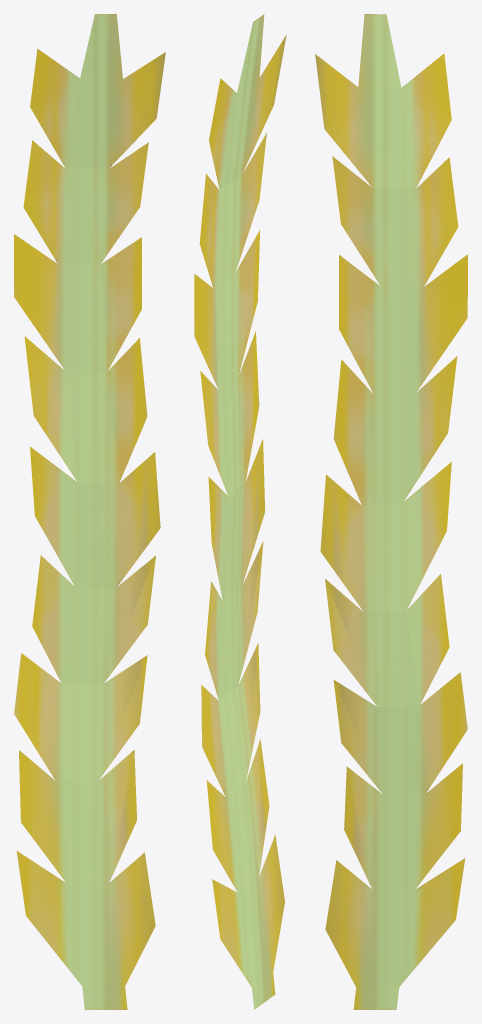
Rendered from ble.glb.
3 renders of one model, left to right at view 1: azimuth 90°, elevation 25°; view 2: azimuth 150°, elevation 25°; view 3: azimuth 270°, elevation 25°, orthographic.
Visible parts, largest first — view 1: blé; view 2: blé; view 3: blé.
Part boxes in pixels (x1,y1,x2,y2): blé: (14, 14, 165, 1009); blé: (194, 14, 286, 1009); blé: (315, 14, 467, 1009).
Size of the model in its own units: 0.0216 by 0.7198 by 0.0998.
Materials: 1 (1 with a texture image).
